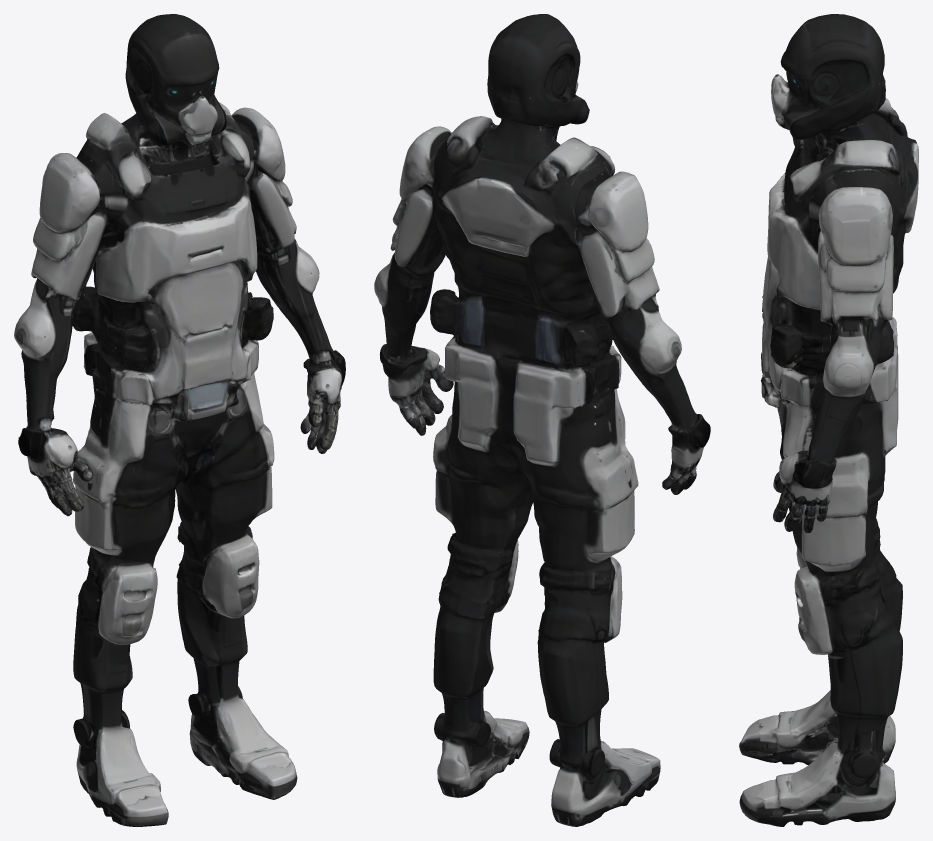
The model's file is player_character_scifi_operative.glb.
The picture shows the model from 3 angles, left to right: view 1: azimuth 30°, elevation 25°; view 2: azimuth 150°, elevation 25°; view 3: azimuth 270°, elevation 25°; orthographic projection.
Parts seen in each view (by area): view 1: Object_4, Object_5; view 2: Object_4, Object_5; view 3: Object_4, Object_5.
Part boxes in pixels (x1,y1,x2,y2): Object_4: (18, 16, 345, 826); Object_5: (14, 14, 344, 825); Object_4: (374, 16, 709, 826); Object_5: (374, 14, 710, 825); Object_4: (739, 14, 918, 826); Object_5: (743, 16, 918, 826).
Size of the model in its own units: 0.8773 by 2 by 0.4243.
Materials: 1 (1 with a texture image).
